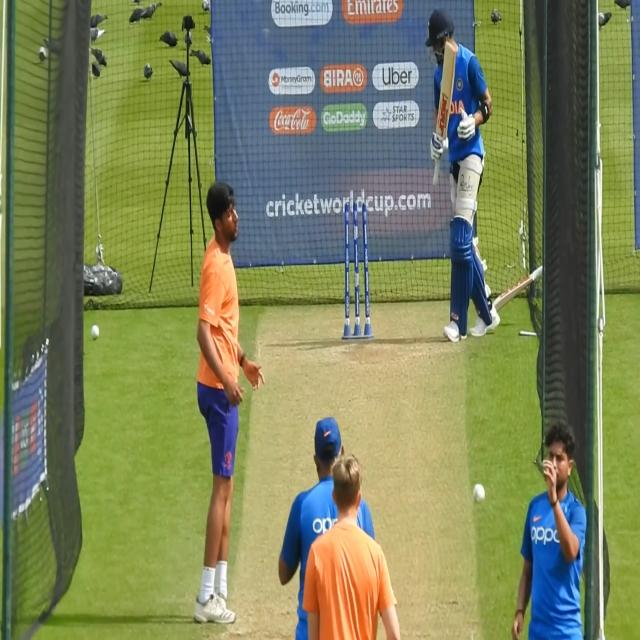ball: (470, 481, 488, 507), (91, 322, 100, 342)
stump: (343, 198, 372, 341)
